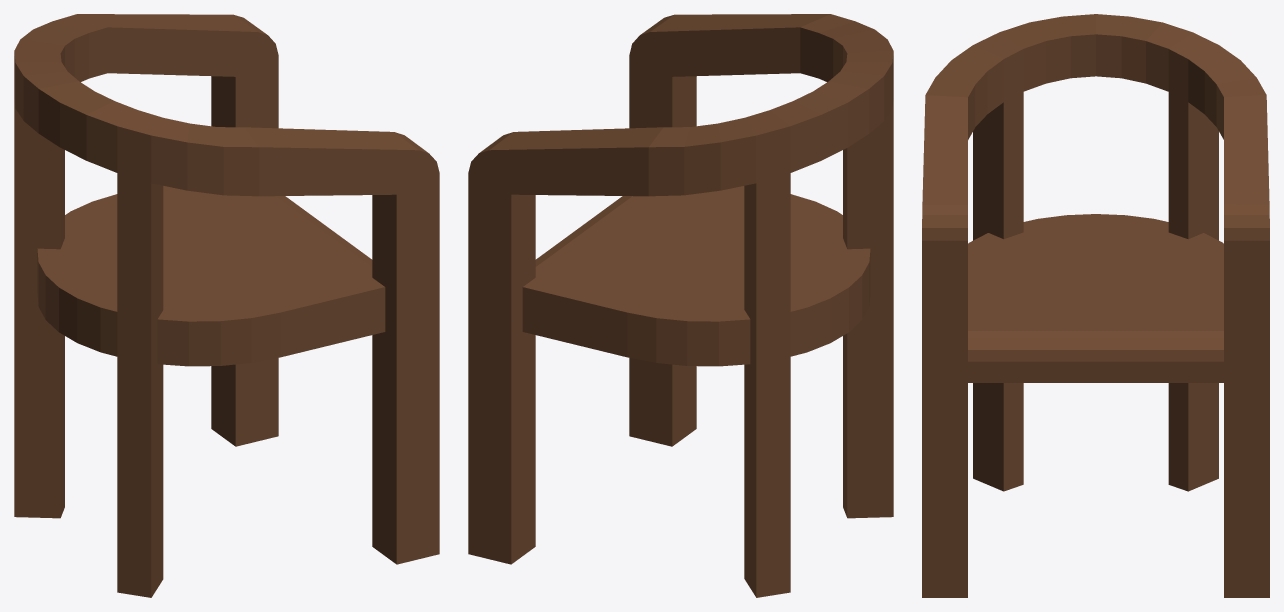
File: SM_Chair.fbx
3 views of the same model, side by side, from view 1: azimuth 30°, elevation 25°; view 2: azimuth 150°, elevation 25°; view 3: azimuth 270°, elevation 25° (orthographic). The views are drawn at different scales.
Visible parts, largest first — view 1: Plane; view 2: Plane; view 3: Plane.
Part boxes in pixels (x1=…): Plane: x1=14, y1=14, x2=439, y2=597; Plane: x1=468, y1=14, x2=893, y2=597; Plane: x1=922, y1=14, x2=1269, y2=597.
Size of the model in its own units: 71.87 by 105 by 75.
